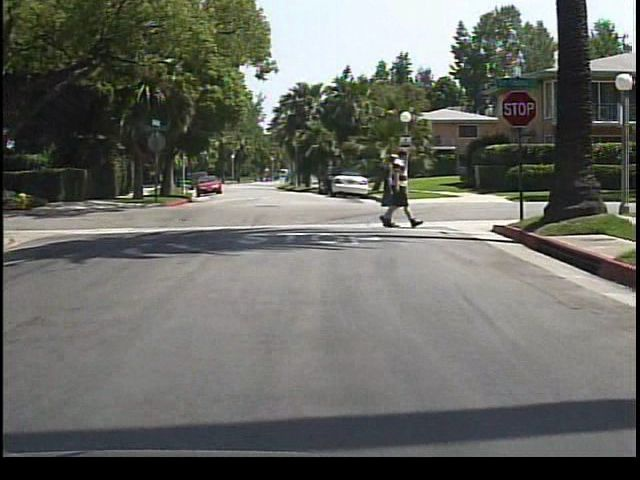person: (386, 148, 421, 229), (373, 151, 398, 229)
